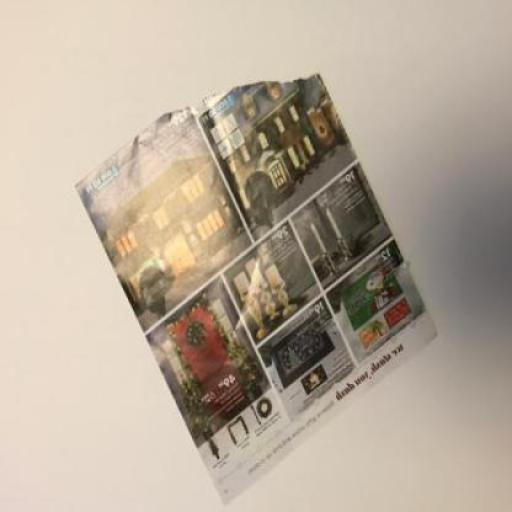paper: (73, 74, 438, 508)
